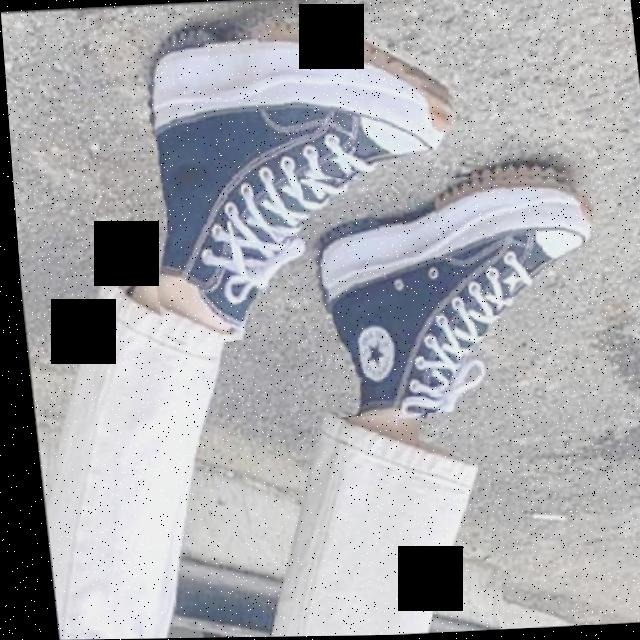shoe: (110, 10, 473, 347), (297, 166, 609, 419)
